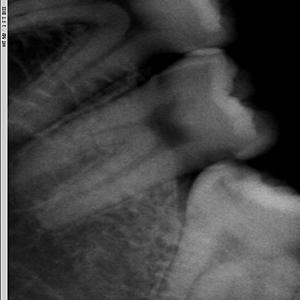tooth: (11, 47, 272, 234), (12, 0, 230, 138), (148, 162, 298, 298)
